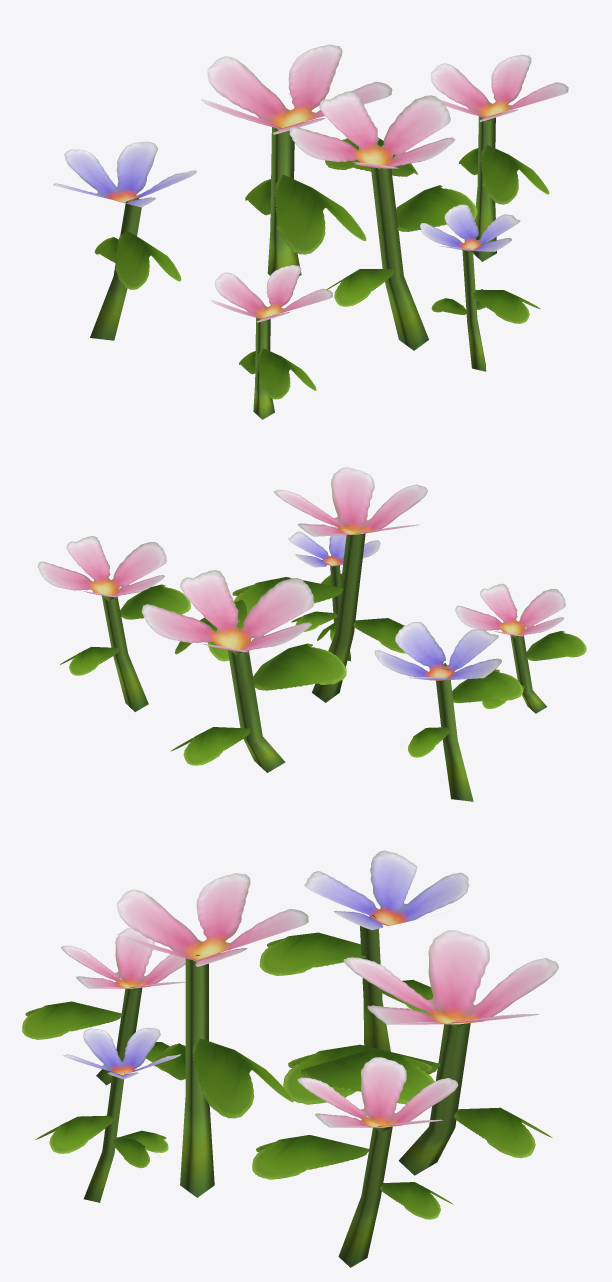
File: Flower_02.FBX
3 views of the same model, one above another, from view 1: azimuth 30°, elevation 25°; view 2: azimuth 150°, elevation 25°; view 3: azimuth 270°, elevation 25° (orthographic). The views are drawn at different scales.
Visible parts, largest first — view 1: Plane018; view 2: Plane018; view 3: Plane018.
Part boxes in pixels (x1,y1,x2,y2): Plane018: (53, 44, 568, 419); Plane018: (37, 467, 586, 801); Plane018: (22, 850, 558, 1267).
Size of the model in its own units: 32.99 by 13.54 by 27.34.
